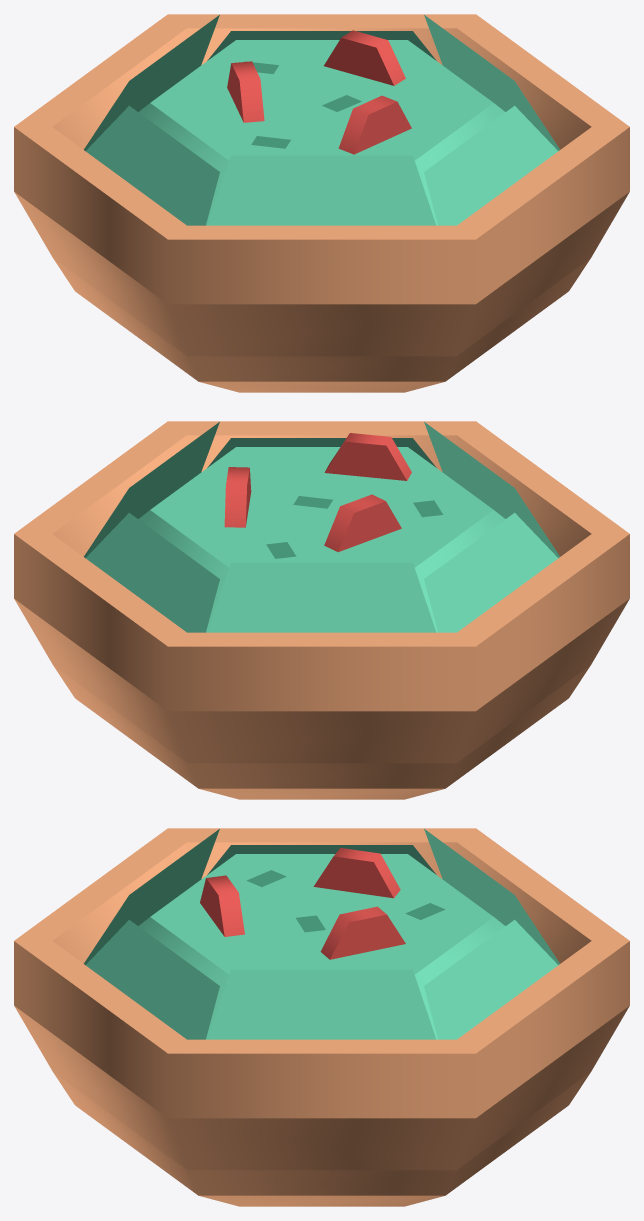
Rendered from Salad.glb.
The picture shows the model from 3 angles, top to bottom: view 1: azimuth 30°, elevation 25°; view 2: azimuth 150°, elevation 25°; view 3: azimuth 270°, elevation 25°; orthographic projection.
Parts seen in each view (by area): view 1: salad; view 2: salad; view 3: salad.
Boxes of the visible parts, x1,y1,x2,y2 form: salad: (14, 14, 629, 392); salad: (14, 421, 629, 799); salad: (14, 828, 629, 1206).
Bounding box in the file's own units: 0.5022 × 0.2734 × 0.5798.
